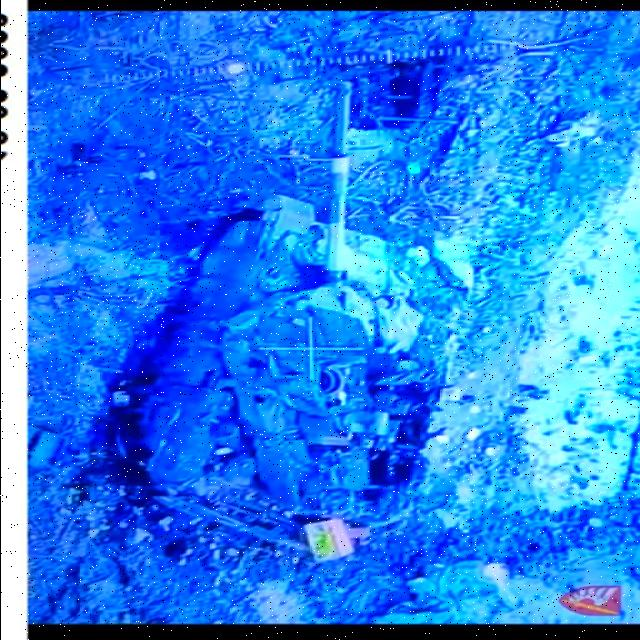TANK: (102, 78, 446, 562)
